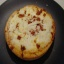pizza: (3, 6, 56, 57)
